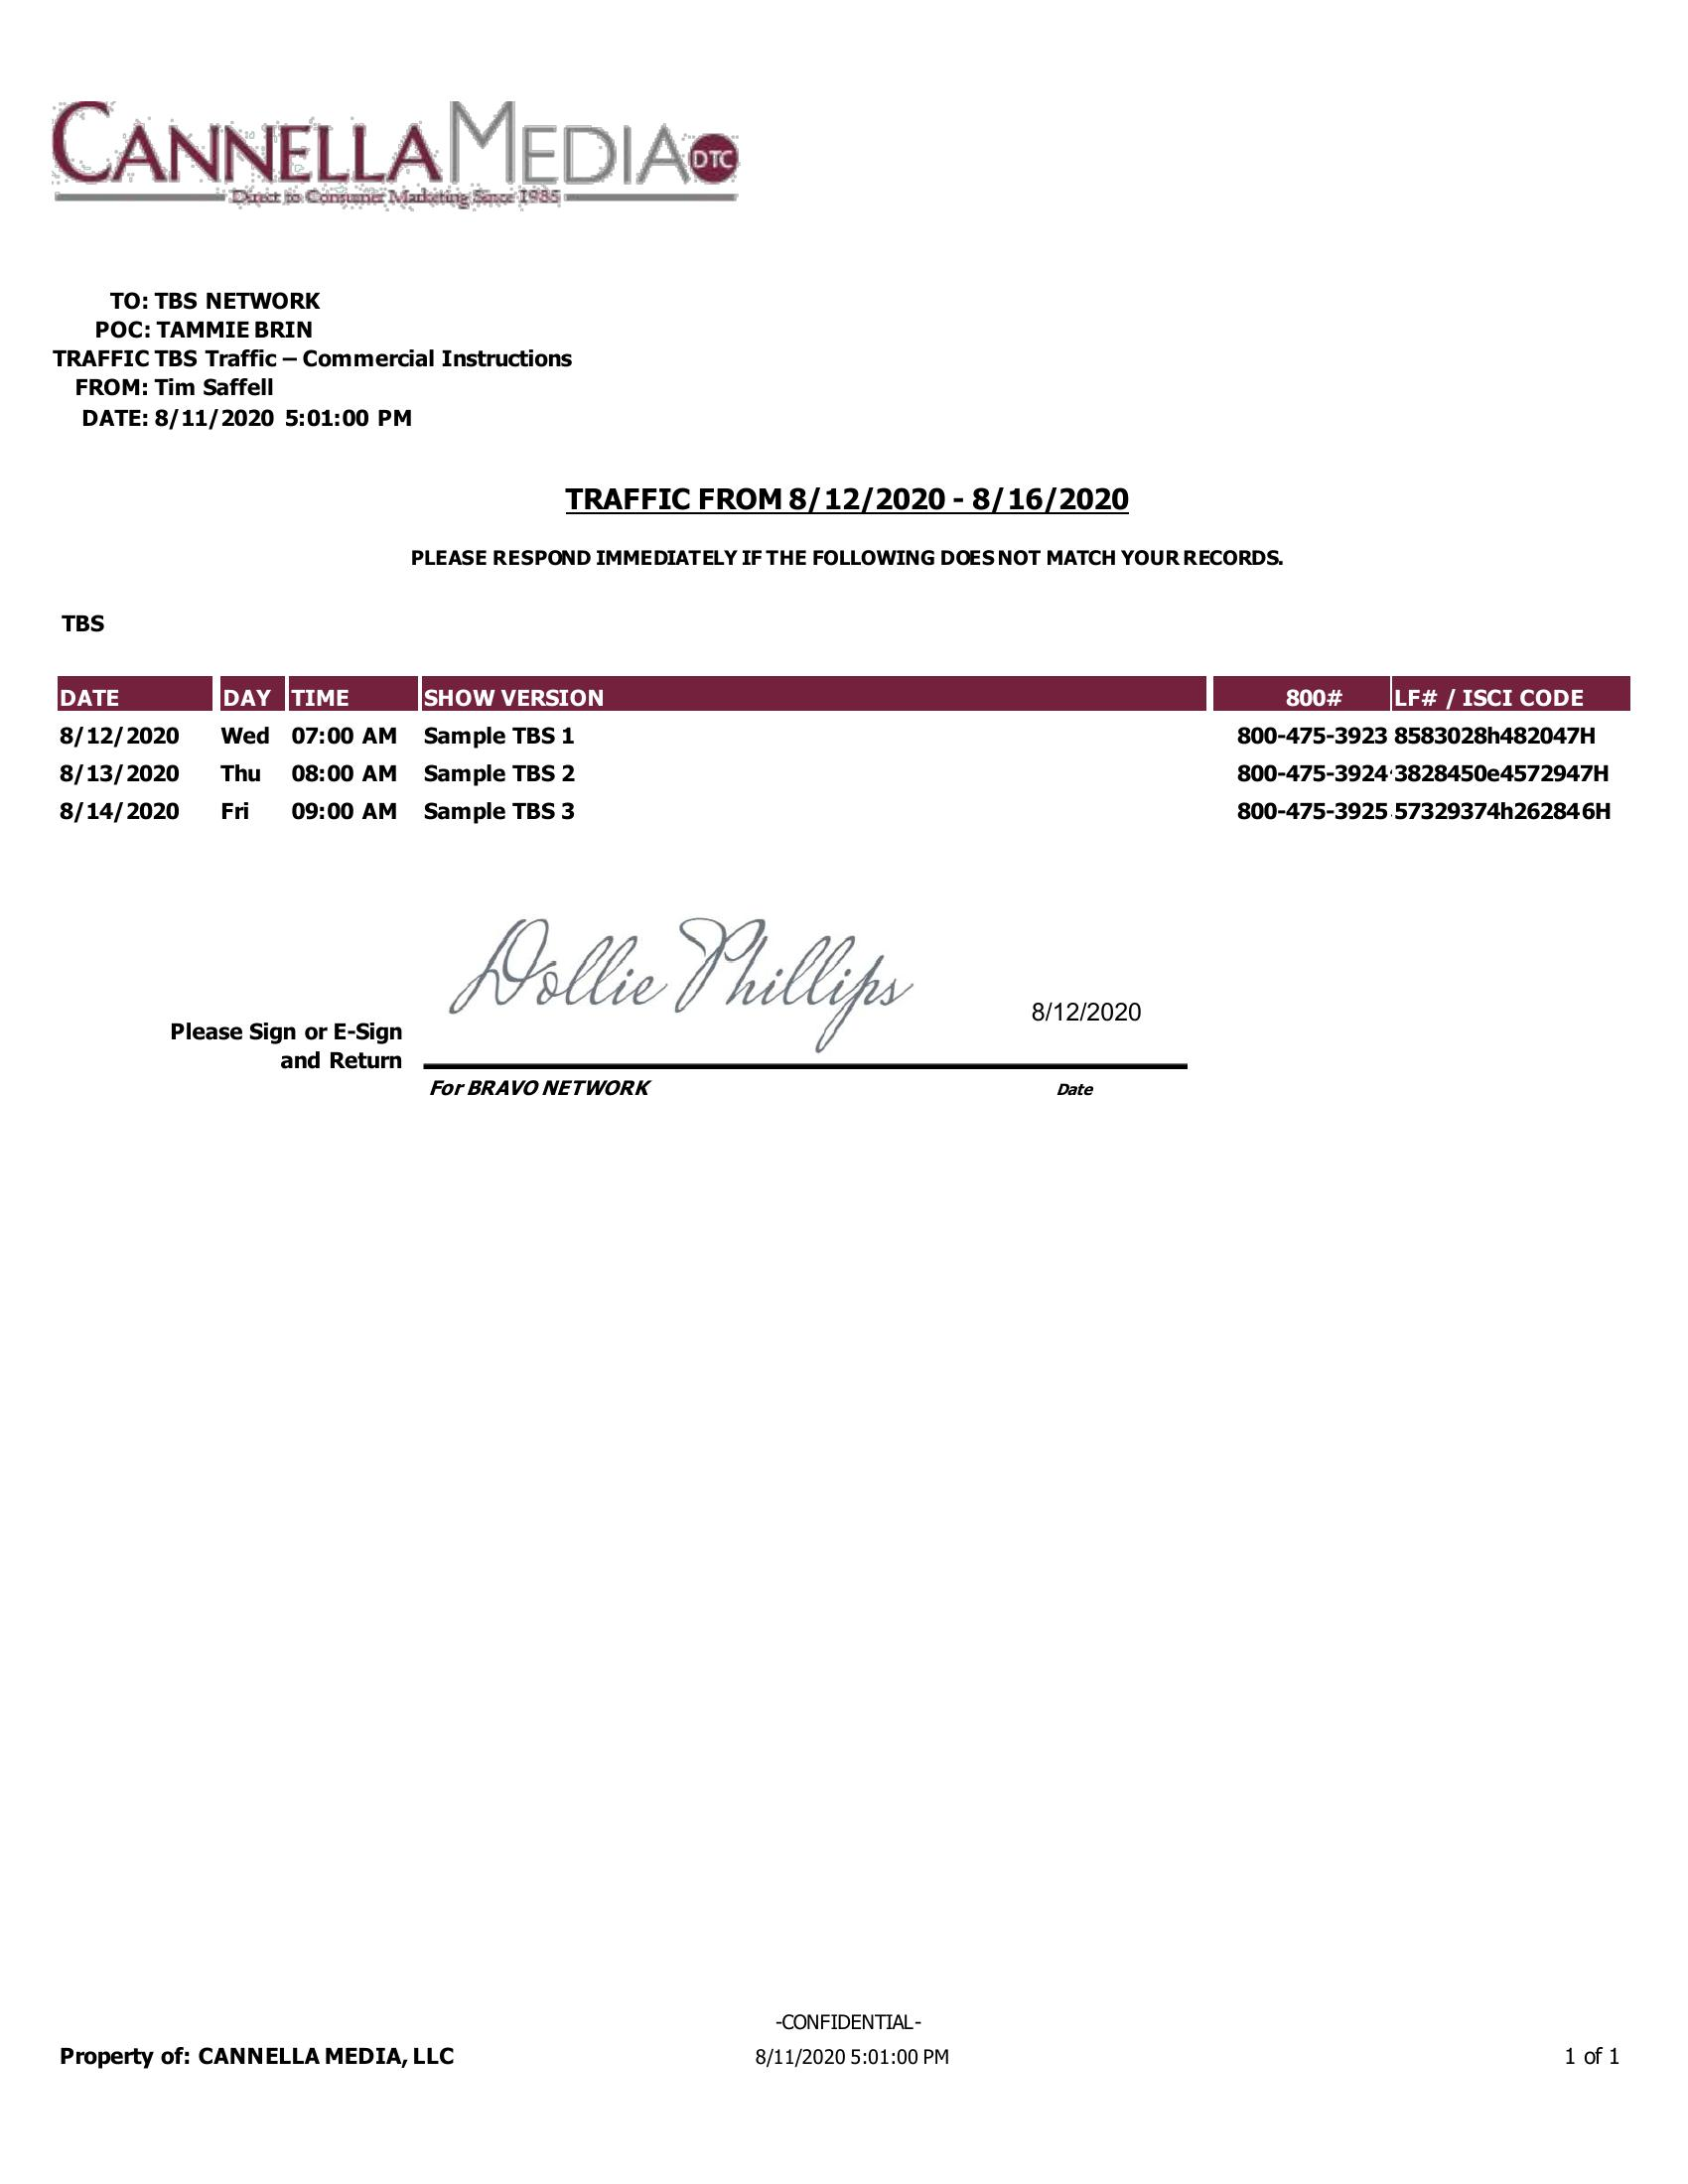table: (35, 652, 1649, 847)
